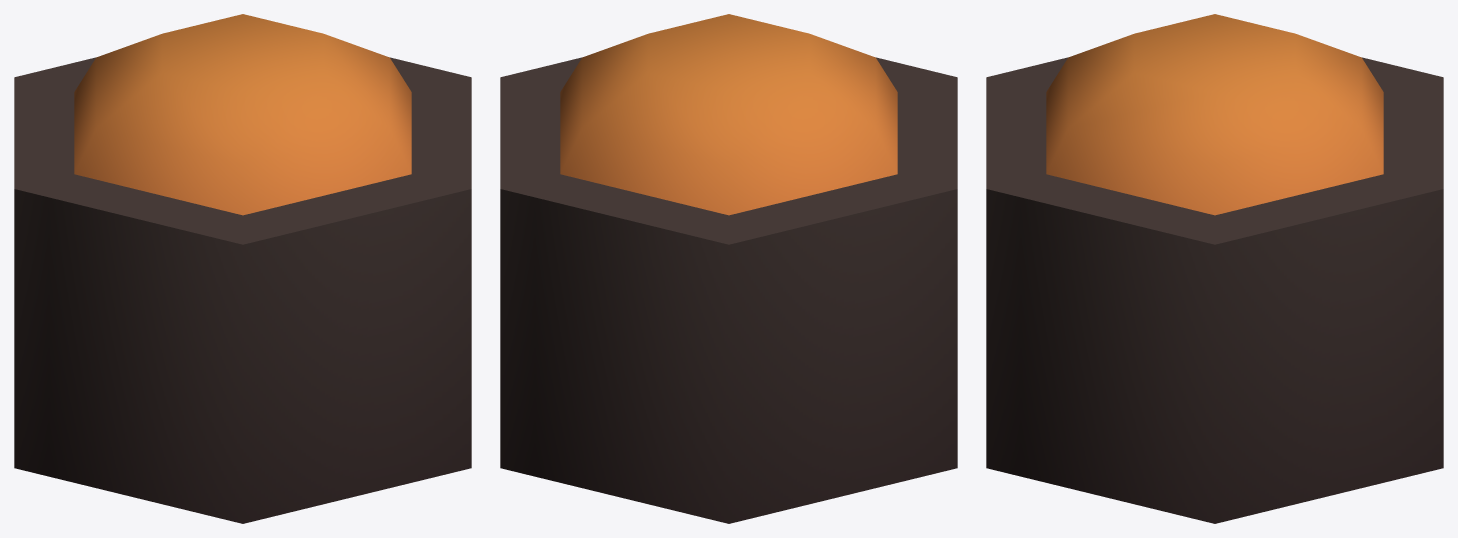
File: maki-roe.glb
3 views of the same model, side by side, from view 1: azimuth 30°, elevation 25°; view 2: azimuth 150°, elevation 25°; view 3: azimuth 270°, elevation 25° (orthographic).
Visible parts, largest first — view 1: maki-roe; view 2: maki-roe; view 3: maki-roe.
Part boxes in pixels (x1,y1,x2,y2): maki-roe: (14, 14, 471, 523); maki-roe: (500, 14, 957, 523); maki-roe: (986, 14, 1443, 523).
Size of the model in its own units: 0.12 by 0.09 by 0.1039.
